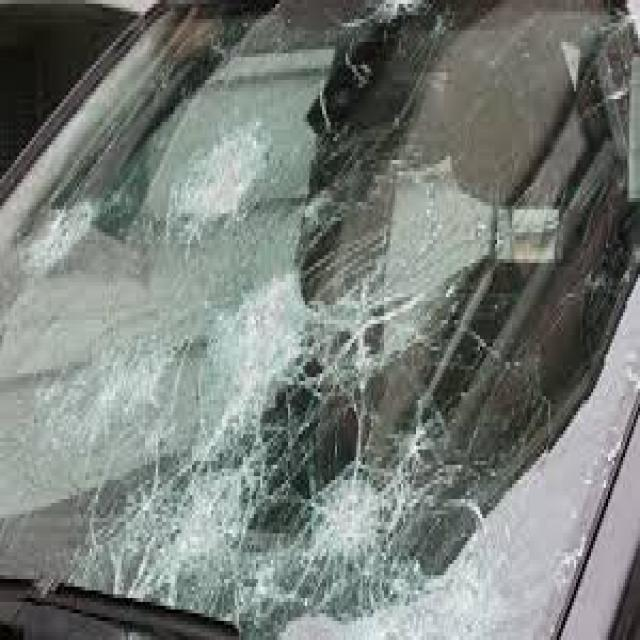minor: (0, 0, 629, 640)
